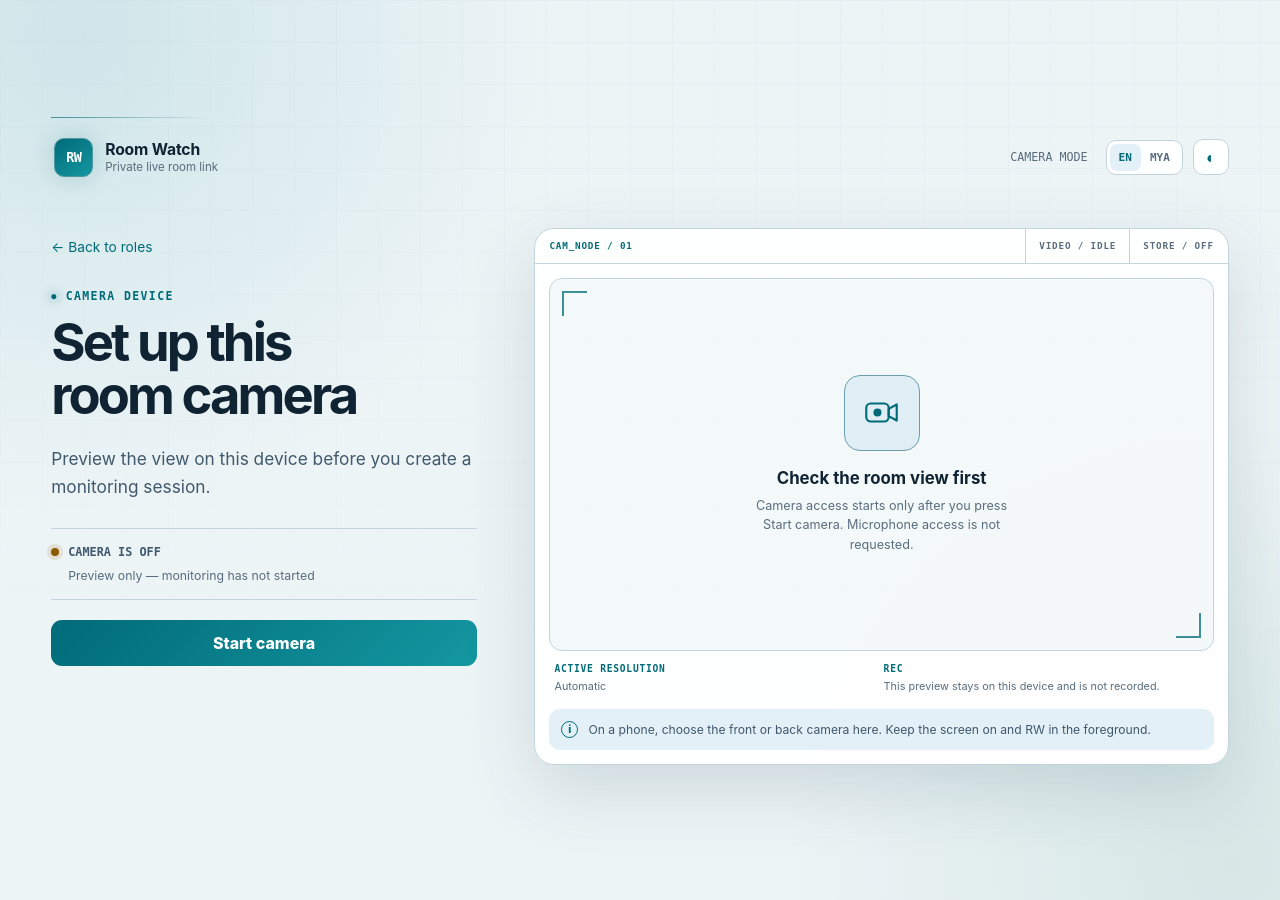
T05 camera preview › shows a camera-not-found message and retry action when no camera is available
Click the button "Start camera" at x=264, y=643, box x1=51 y1=620 x2=477 y2=666
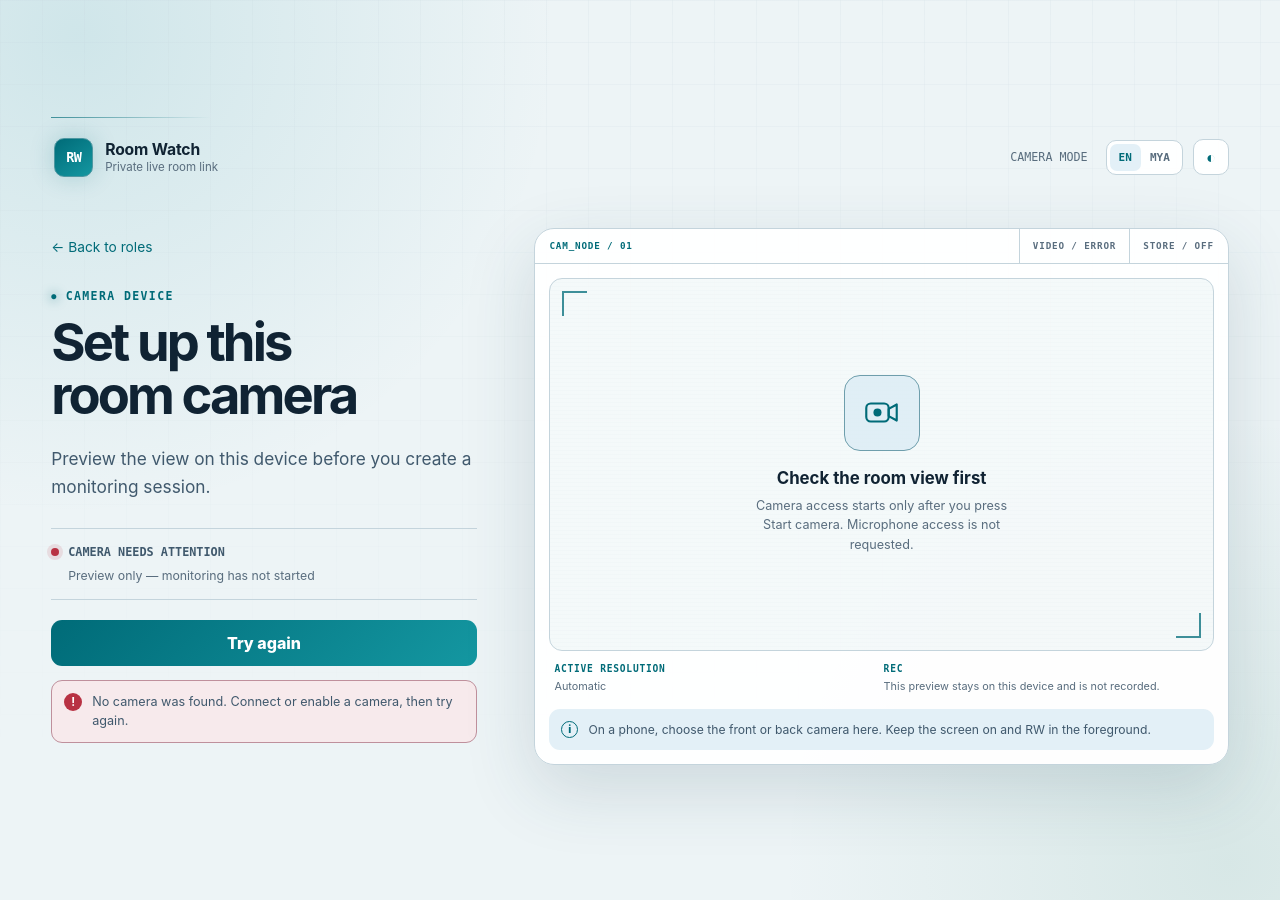
Now the message shows "No camera was found.", box x1=92 y1=694 x2=452 y2=728
Now the button "Try again" is shown, box x1=51 y1=620 x2=477 y2=666
